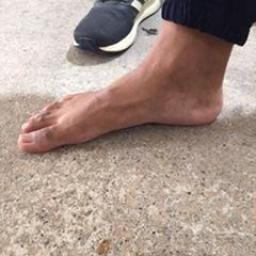Medial View -Right Foot-: (15, 32, 241, 169)
